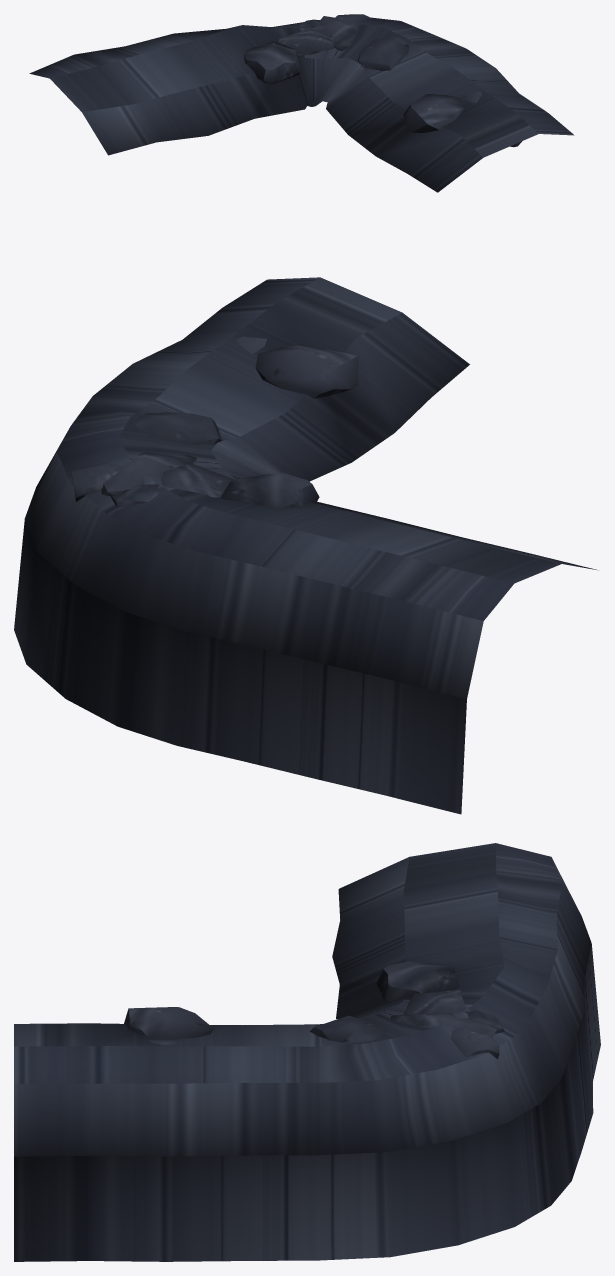
Rendered from cave_pool_rim_inner.glb.
3 renders of one model, top to bottom at view 1: azimuth 30°, elevation 25°; view 2: azimuth 150°, elevation 25°; view 3: azimuth 270°, elevation 25°, orthographic. The views are drawn at different scales.
Visible parts, largest first — view 1: cave_pool_rim_inner; view 2: cave_pool_rim_inner; view 3: cave_pool_rim_inner.
Boxes of the visible parts, x1,y1,x2,y2 form: cave_pool_rim_inner: (29, 14, 574, 192); cave_pool_rim_inner: (14, 277, 597, 814); cave_pool_rim_inner: (14, 843, 600, 1261).
Bounding box in the file's own units: 1.16 × 0.4048 × 1.16.
1 material, 1 textured.
